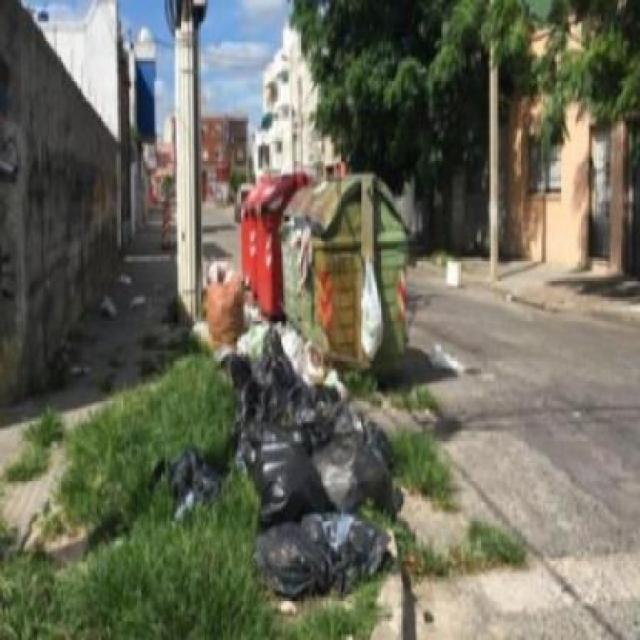garbage: (230, 355, 396, 590), (148, 445, 220, 526), (209, 263, 250, 348), (359, 255, 383, 370), (442, 254, 466, 298), (278, 216, 316, 243), (292, 249, 316, 288), (94, 292, 118, 316), (112, 271, 136, 288), (128, 289, 145, 310)
